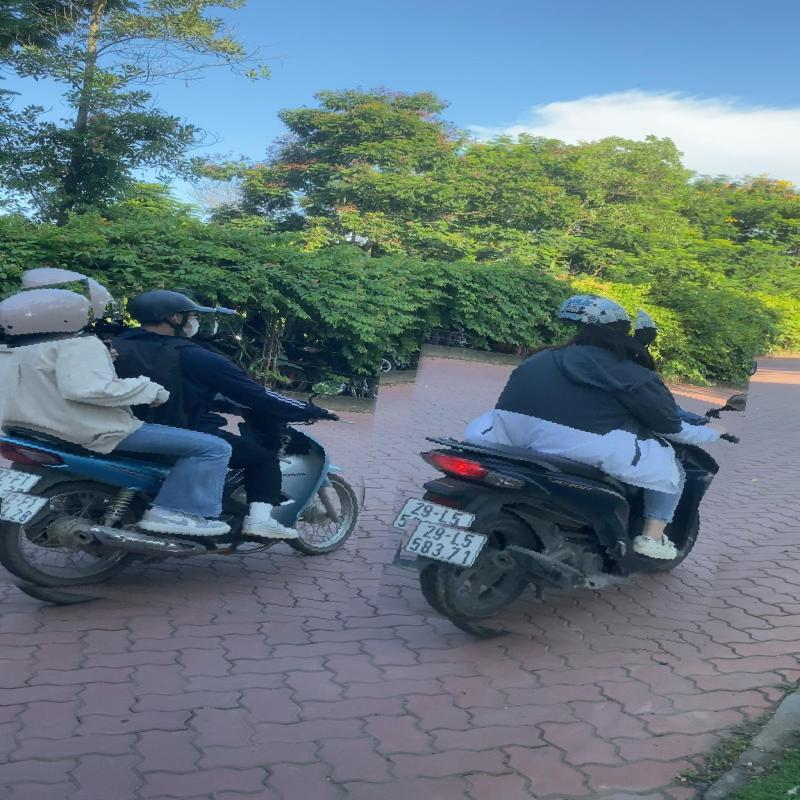helmet: (0, 281, 93, 345), (123, 286, 217, 336), (553, 290, 639, 334)
licenseplate: (401, 522, 489, 568), (0, 490, 49, 527)
motorcyclist: (389, 280, 746, 652), (0, 272, 378, 619)
